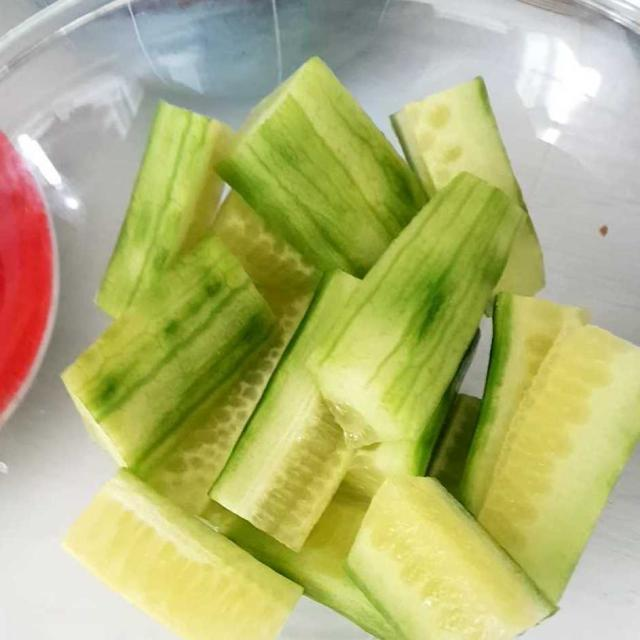bread: (41, 56, 639, 639)
